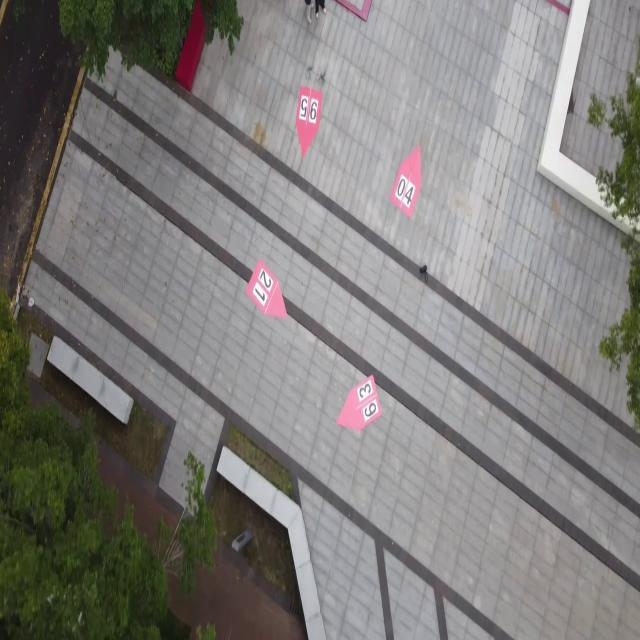-sign-: (246, 258, 288, 322), (337, 375, 383, 433), (390, 144, 423, 218), (296, 85, 322, 158)
